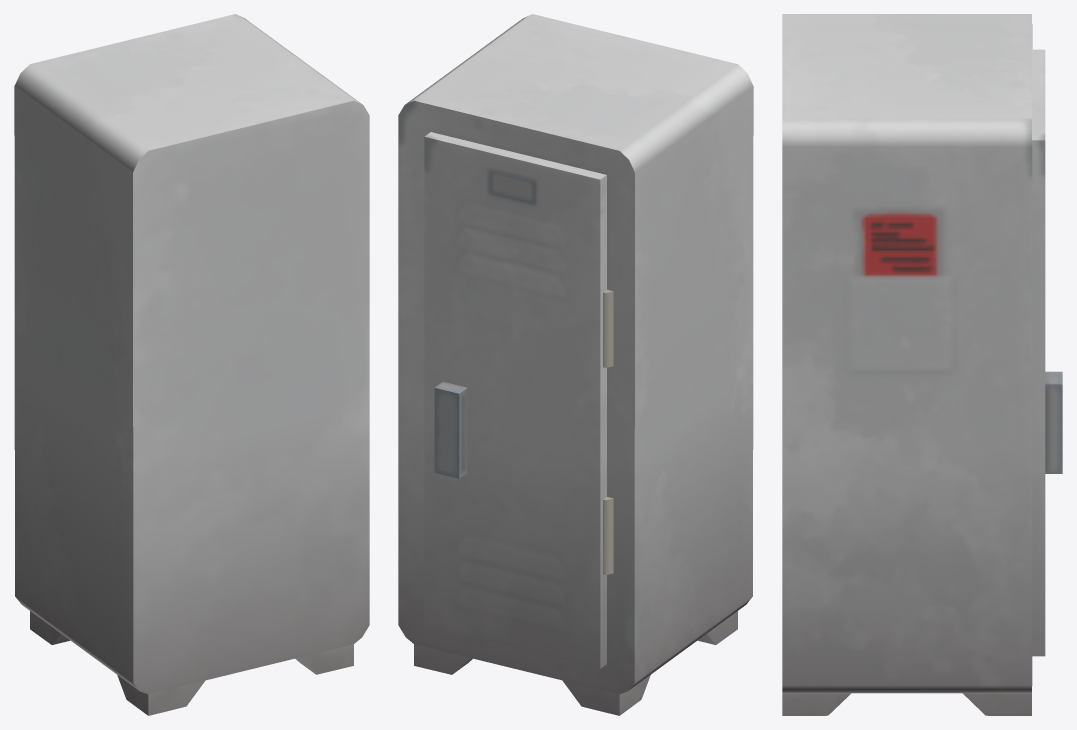
File: Prfb_Locker.fbx
3 views of the same model, side by side, from view 1: azimuth 30°, elevation 25°; view 2: azimuth 150°, elevation 25°; view 3: azimuth 270°, elevation 25° (orthographic). The views are drawn at different scales.
Visible parts, largest first — view 1: Mat_Locker_01_01; view 2: Mat_Locker_01_01; view 3: Mat_Locker_01_01.
Part boxes in pixels (x1,y1,x2,y2): Mat_Locker_01_01: (14,14,369,715); Mat_Locker_01_01: (398,14,753,715); Mat_Locker_01_01: (782,14,1062,715).
Size of the model in its own units: 0.8742 by 1.99 by 0.8506.
Materials: 1 (1 with a texture image).
